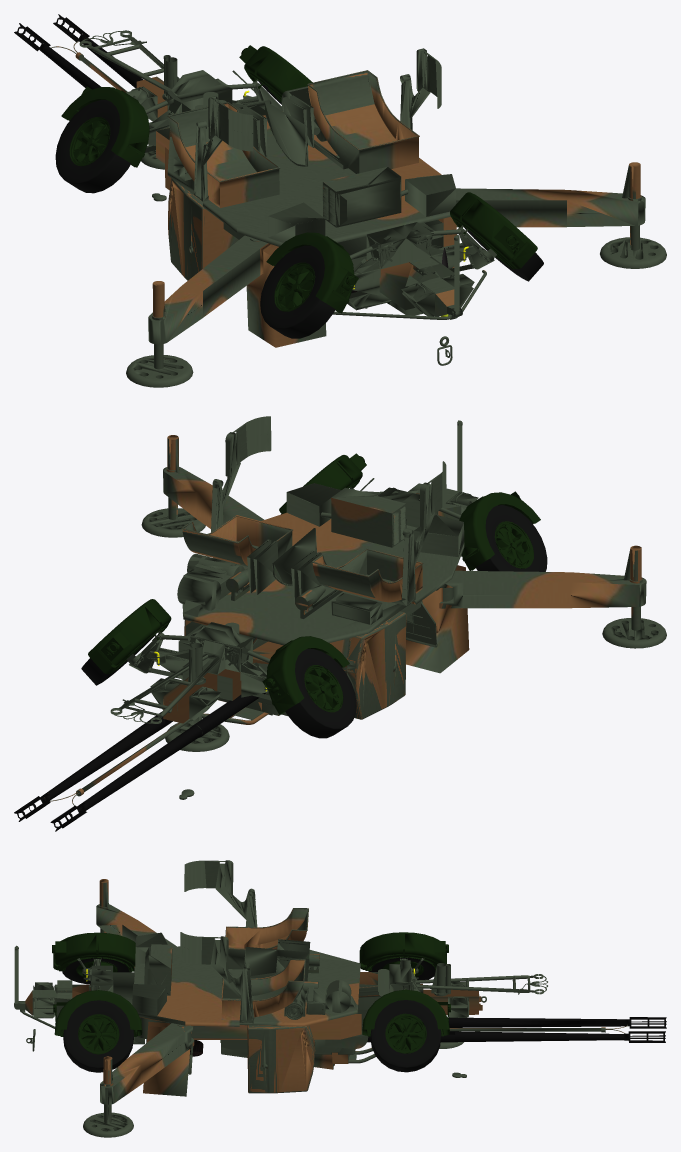
Rendered from skyguard.glb.
The picture shows the model from 3 angles, top to bottom: view 1: azimuth 30°, elevation 25°; view 2: azimuth 150°, elevation 25°; view 3: azimuth 270°, elevation 25°; orthographic projection. The views are drawn at different scales.
Parts seen in each view (by area): view 1: body|material_18, body|material, body|material_14, cradle|material_18, cradle|material_15; view 2: body|material_18, body|material, cradle|material_18, body|material_14, cradle|material_15; view 3: body|material_18, body|material, cradle|material_18, body|material_14, cradle|material_15, turret|material_18.
Boxes of the visible parts, bbox=[...] form: body|material_18: bbox=[79, 30, 666, 387]; body|material: bbox=[61, 45, 537, 313]; body|material_14: bbox=[55, 80, 543, 338]; cradle|material_18: bbox=[51, 41, 456, 365]; cradle|material_15: bbox=[14, 14, 143, 89]; body|material_18: bbox=[110, 416, 666, 751]; body|material: bbox=[88, 453, 540, 714]; cradle|material_18: bbox=[44, 565, 469, 806]; body|material_14: bbox=[81, 505, 547, 738]; cradle|material_15: bbox=[14, 692, 266, 831]; body|material_18: bbox=[14, 860, 547, 1137]; body|material: bbox=[52, 932, 450, 1054]; cradle|material_18: bbox=[26, 1021, 627, 1096]; body|material_14: bbox=[62, 957, 441, 1072]; cradle|material_15: bbox=[367, 1017, 666, 1042]; turret|material_18: bbox=[133, 1030, 368, 1048].
Size of the model in its own units: 6.24 by 2.65 by 8.69.
12 materials, 4 textured.
